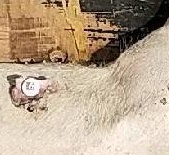text: (13, 70, 50, 104)
